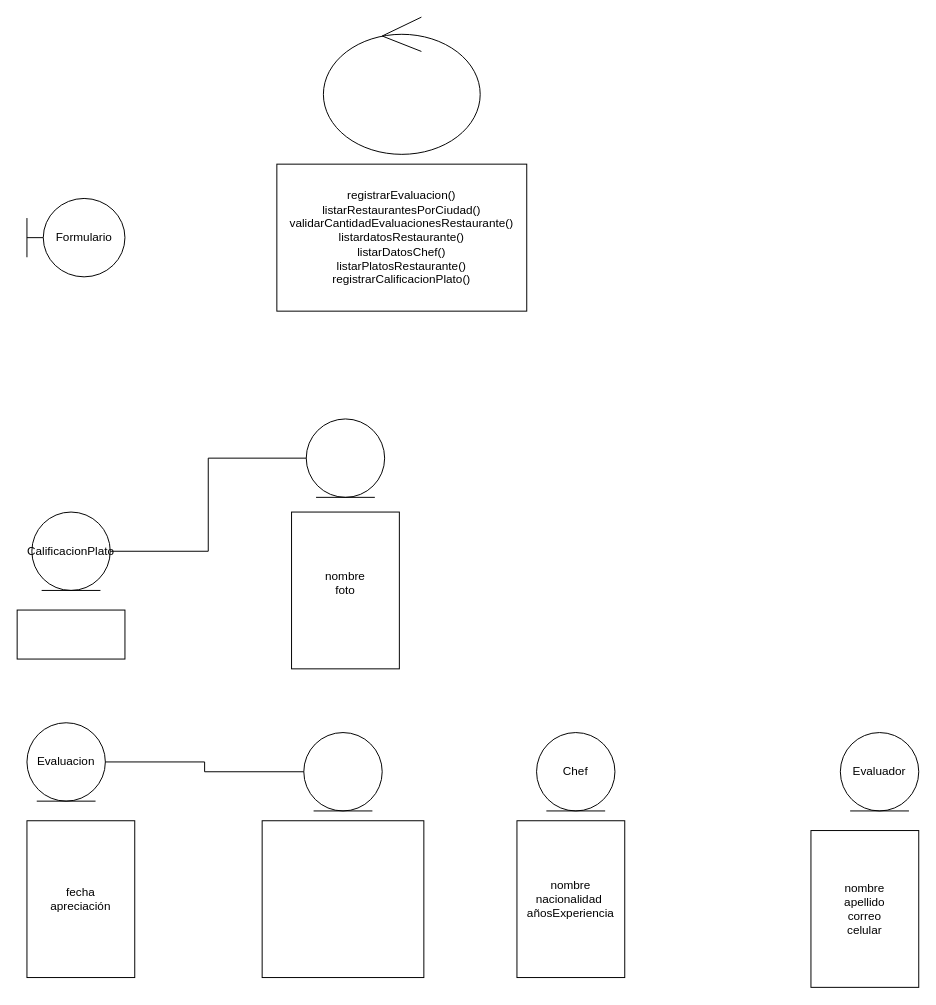
Image size: 936x1005. Some labels were removed from this diagram. Each missing label, with the centre of its shape:
"calificacón explicación" goes at (70,634).
"ciudad direccion telefono nombre cantidad de evaluaciones" goes at (342,899).
"ControlRegistroEvaluacion" goes at (401,85).
"Plato" goes at (345,457).
"Restaurante" goes at (342,771).
